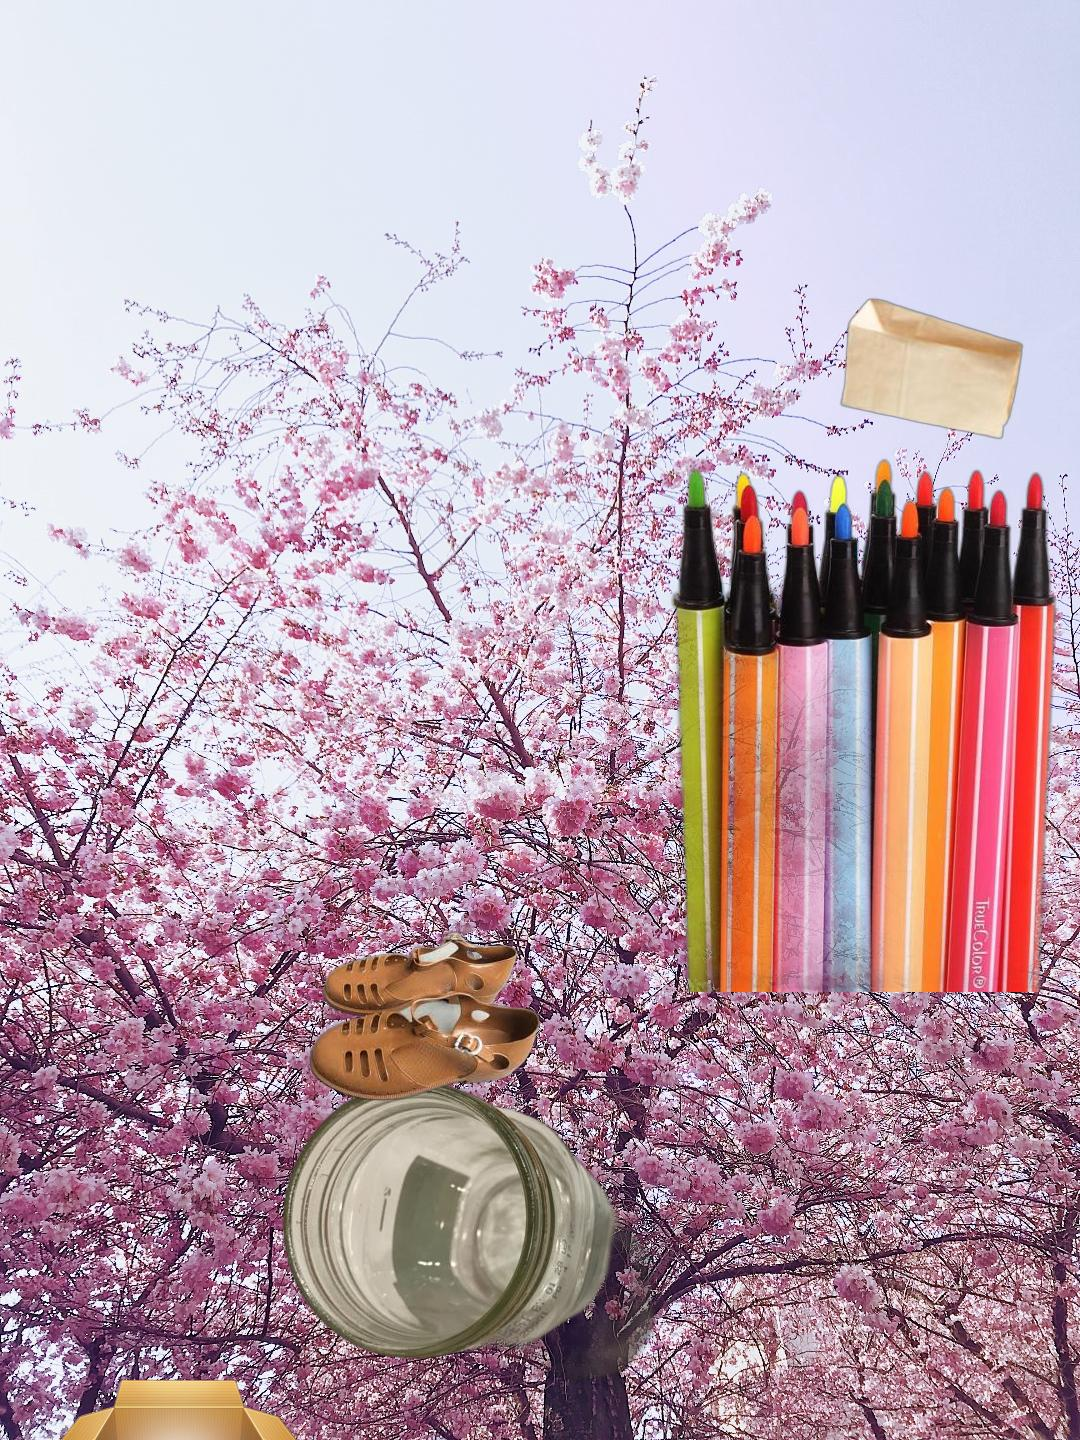glass: (278, 1077, 698, 1386)
paper-bag: (838, 296, 1026, 441)
penholder: (667, 455, 1061, 992)
shoes: (307, 927, 543, 1103)
trashbox-cardboard: (47, 1377, 312, 1440)
